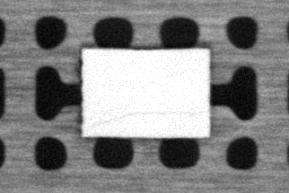DIE_CRACK: (97, 109, 207, 131)
